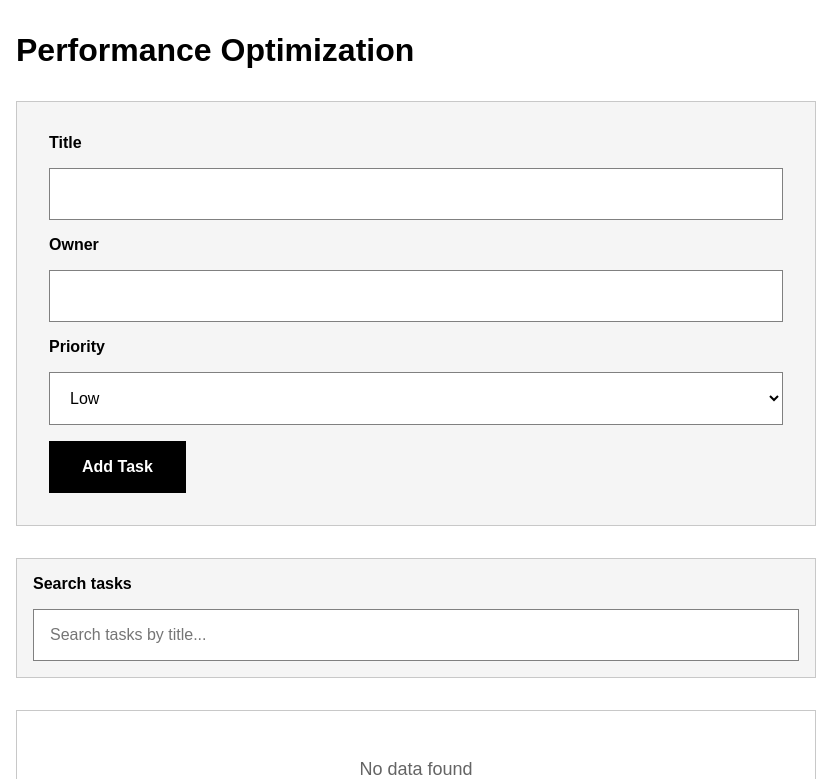
Test: TaskTracker - Unhappy Path › shows "No data found" when a search query finds no matching tasks
Expected: the heading "Performance Optimization" is shown, [16,32,414,68]
Note: Add a task
Type "Audit Lighthouse Score" into the field labelled "Title" at (416,194), box [49,168,783,220]
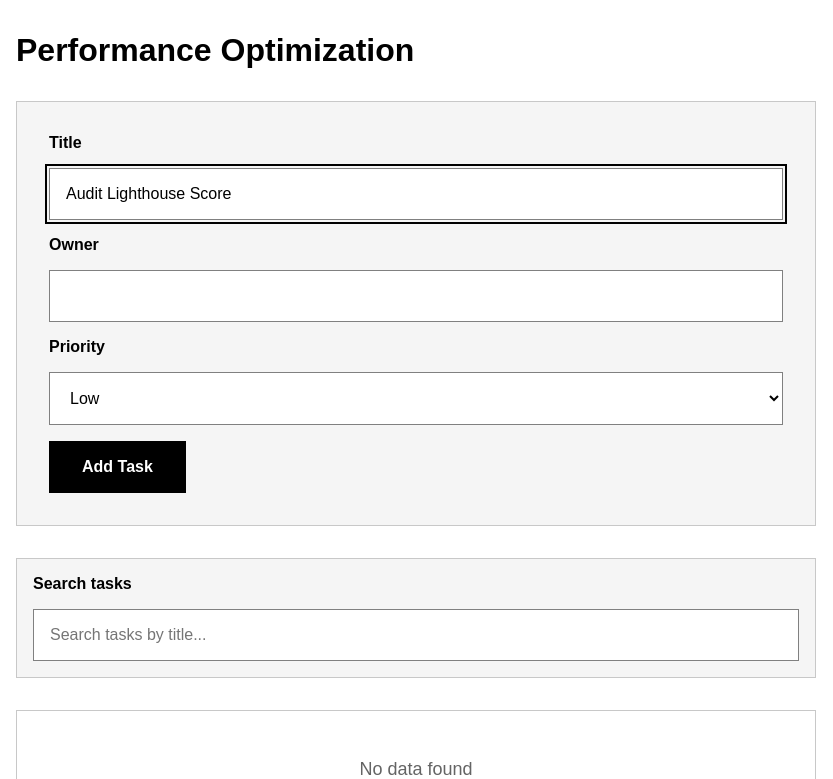
Type "Emma" into the field labelled "Owner" at (416,296), box [49,270,783,322]
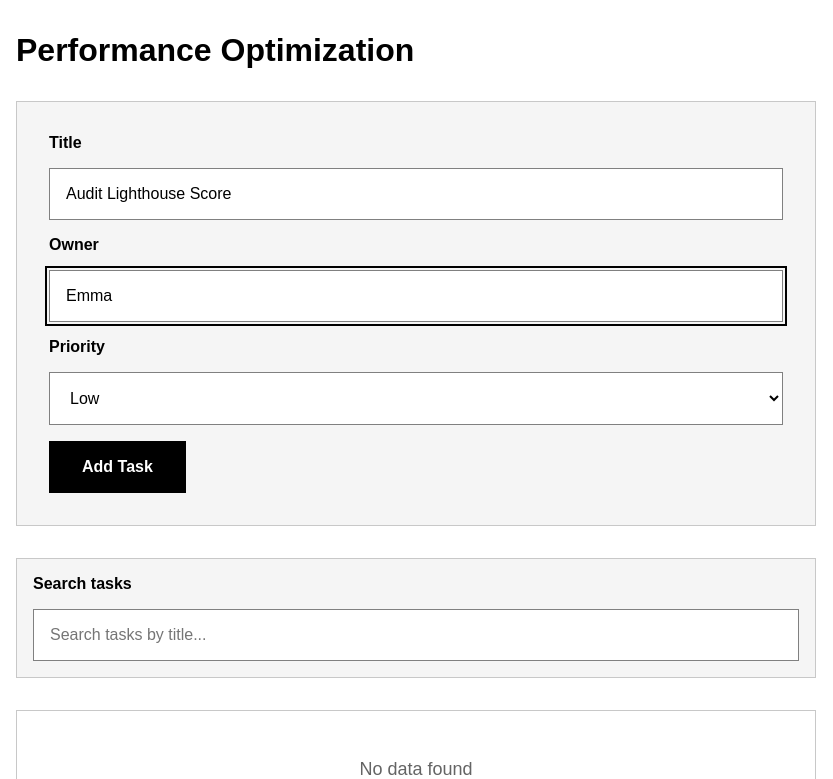
Click the button "Add Task" at (117,467), box [49,441,186,493]
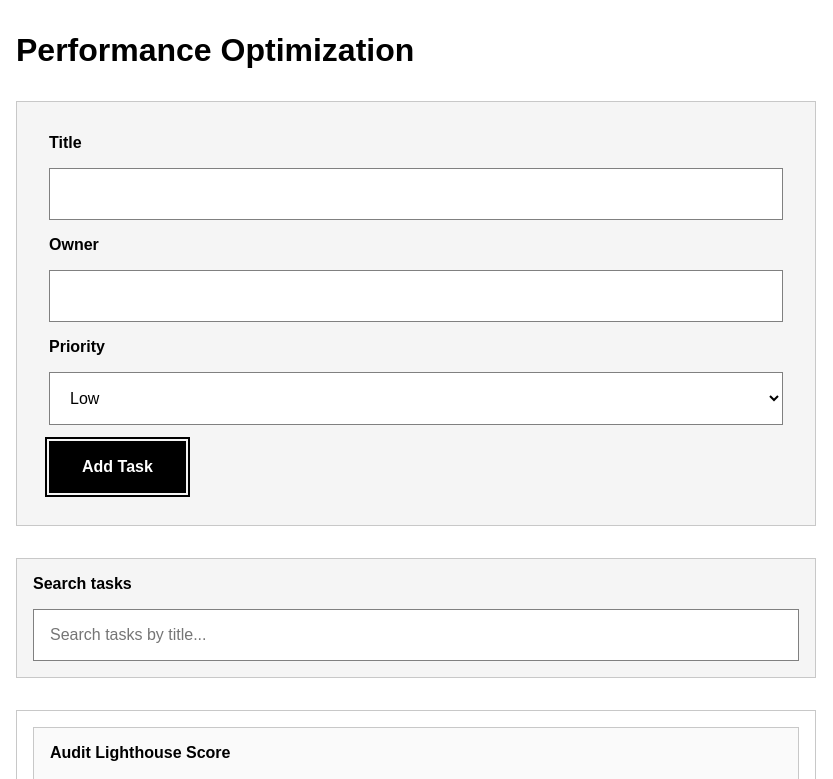
Now the text "Audit Lighthouse Score" is shown, box [50,744,230,762]
Note: Search for a keyword that does not match
Type "NonExistentTask12345" into the field labelled "Search tasks" at (416,635), box [33,609,799,661]
(page scrolled)
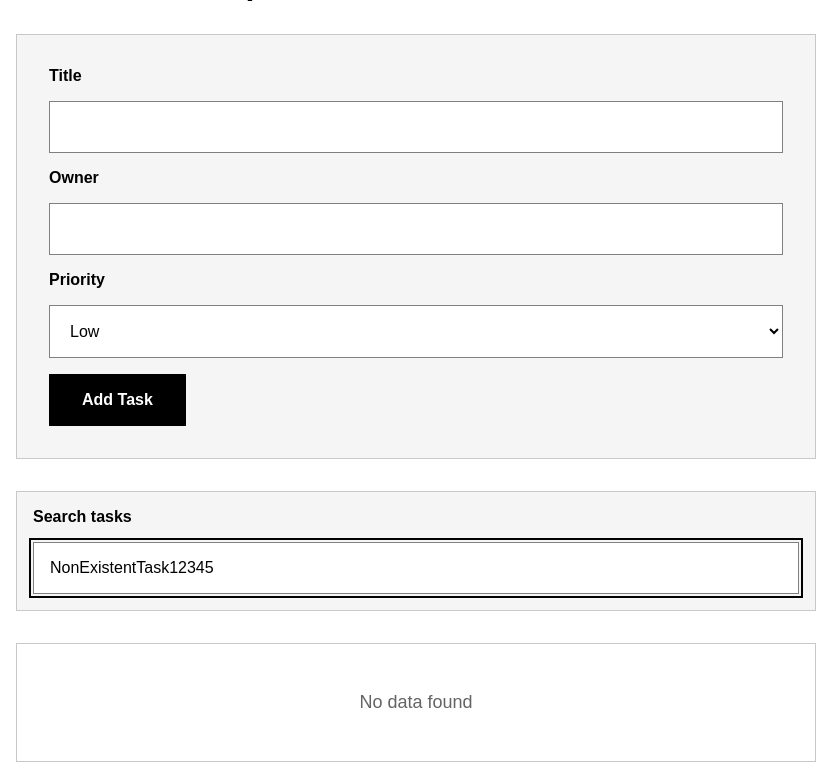
Now the text "No data found" is shown, box [360,692,473,712]
Now the text "Audit Lighthouse Score" is gone
